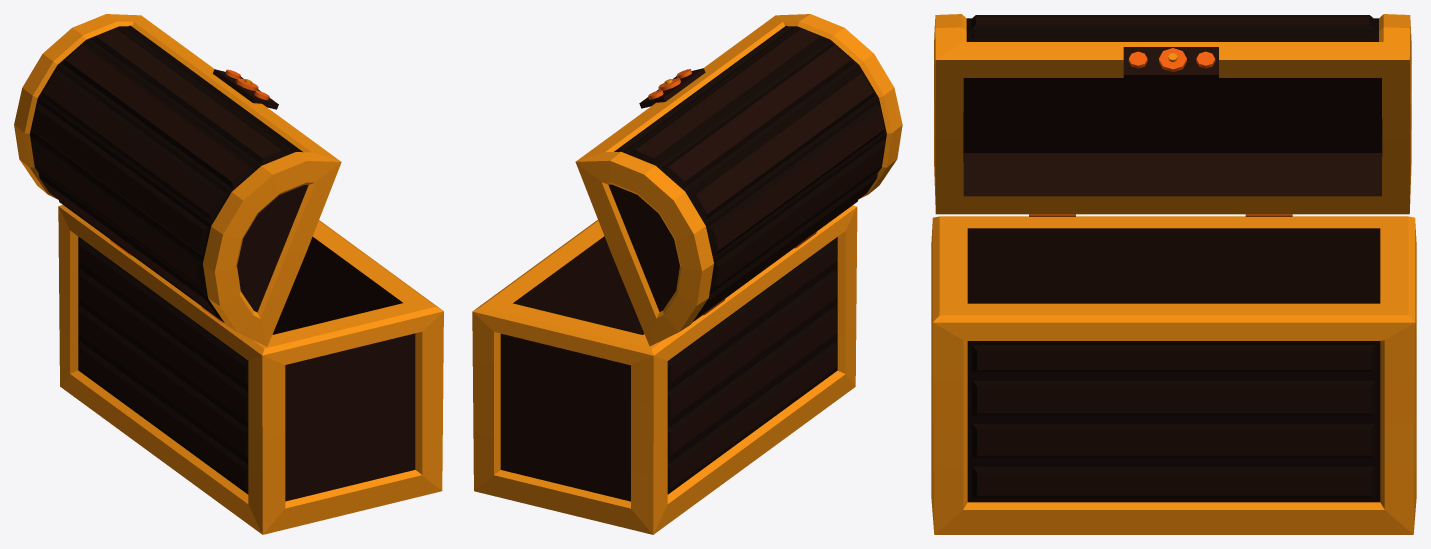
Rendered from Open Treasure Chest 001.FBX.
The picture shows the model from 3 angles, left to right: view 1: azimuth 30°, elevation 25°; view 2: azimuth 150°, elevation 25°; view 3: azimuth 270°, elevation 25°; orthographic projection. The views are drawn at different scales.
Parts seen in each view (by area): view 1: Open Treasure Chest001, Chest Lid001, Lock Mechanism001; view 2: Open Treasure Chest001, Chest Lid001, Lock Mechanism001; view 3: Open Treasure Chest001, Chest Lid001, Lock Mechanism001.
Part boxes in pixels (bbox=[...]): Open Treasure Chest001: bbox=[58, 205, 443, 534]; Chest Lid001: bbox=[14, 14, 341, 346]; Lock Mechanism001: bbox=[213, 69, 278, 109]; Open Treasure Chest001: bbox=[472, 205, 857, 534]; Chest Lid001: bbox=[575, 14, 902, 346]; Lock Mechanism001: bbox=[639, 68, 705, 108]; Open Treasure Chest001: bbox=[931, 216, 1416, 534]; Chest Lid001: bbox=[934, 14, 1411, 214]; Lock Mechanism001: bbox=[1123, 47, 1218, 79].
Size of the model in its own units: 0.6701 by 1.01 by 1.04.
